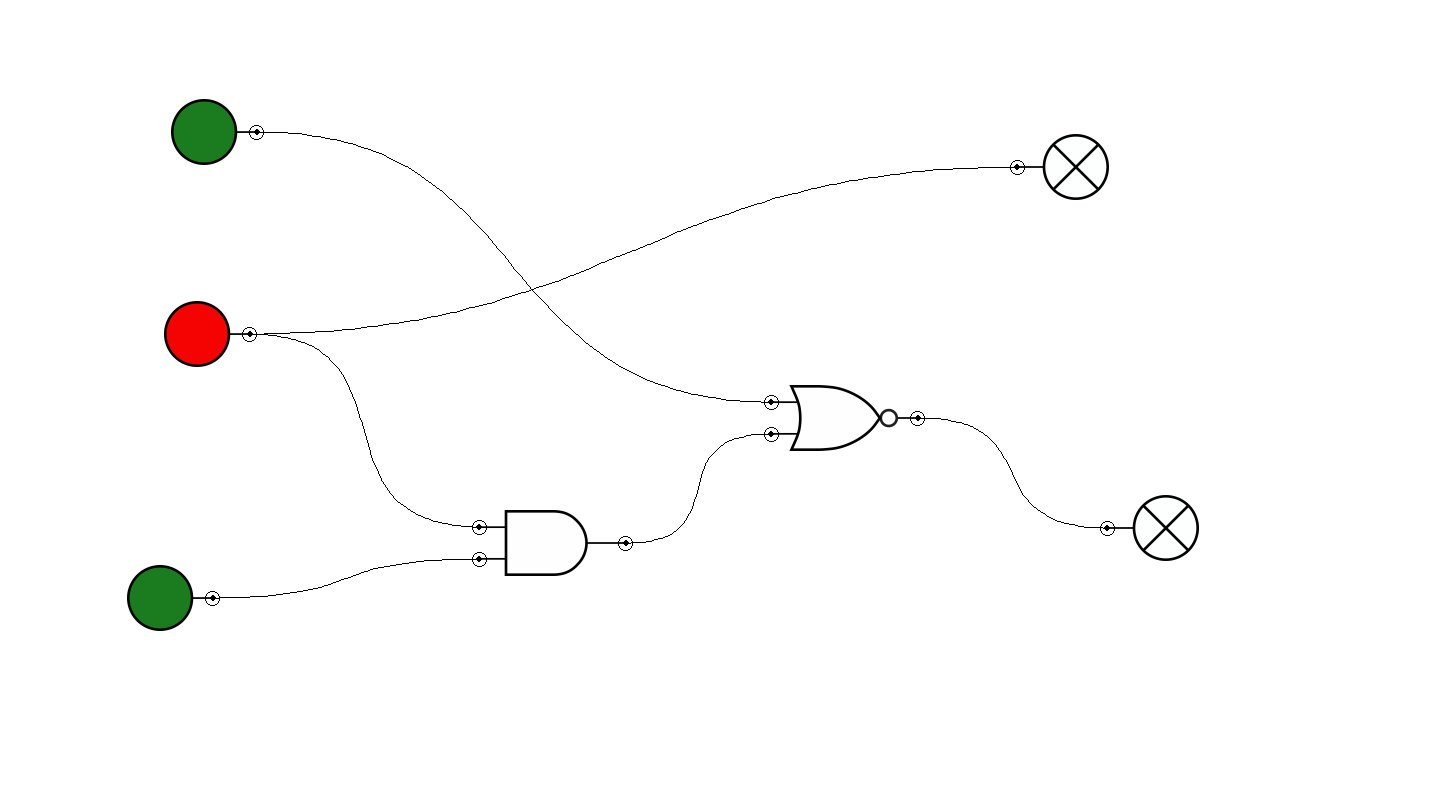and: (472, 510, 633, 576)
bulb: (1100, 495, 1199, 561), (1010, 134, 1109, 200)
nor: (764, 385, 925, 451)
switch_False: (164, 301, 257, 367)
switch_True: (171, 99, 264, 165), (127, 565, 220, 631)
